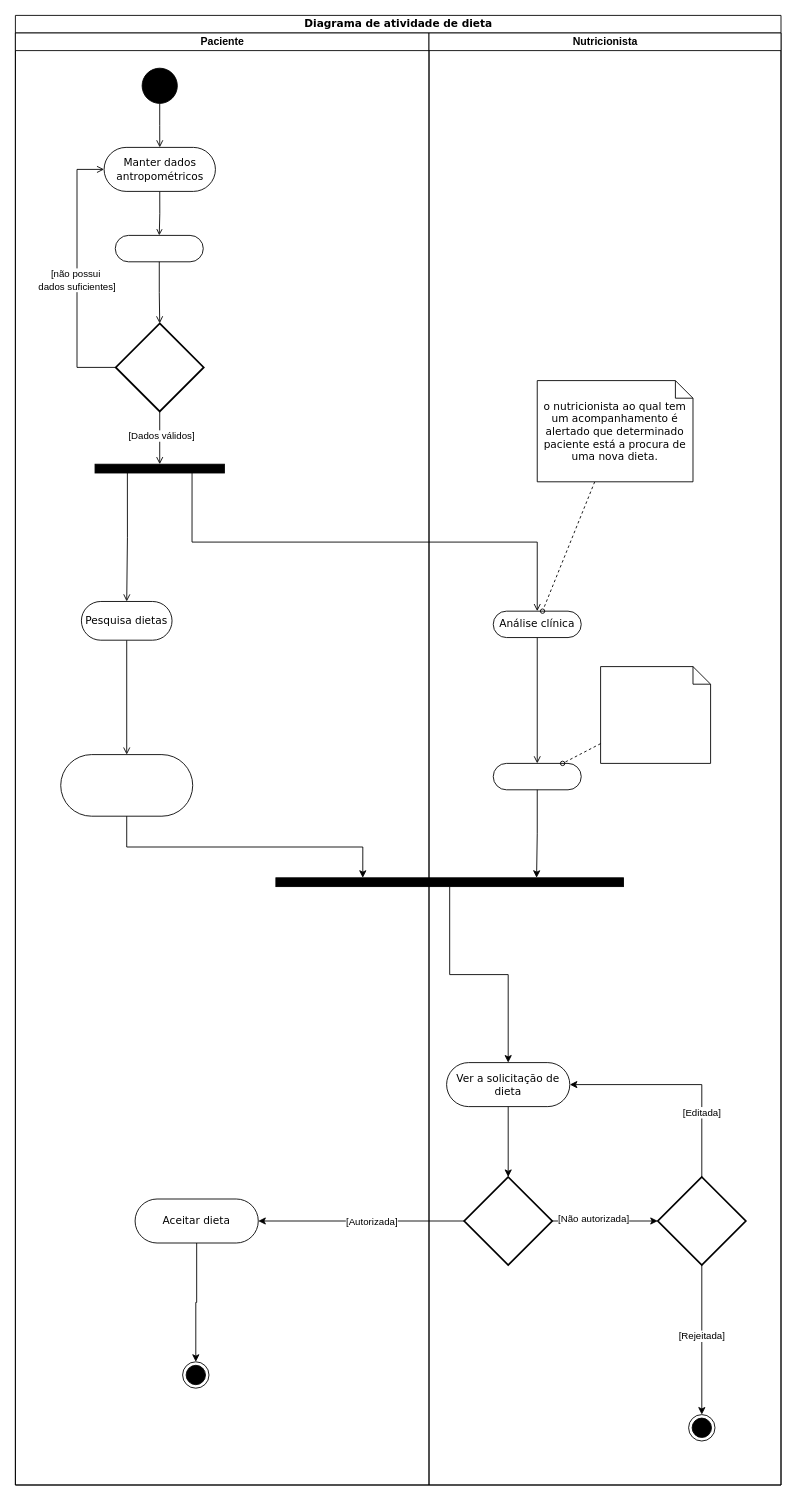
The diagram is 796 pixels wide and 1500 high, and some of its shapes have lost their labels. Here are the shapes that lost their labels. From the top down, the centre of each, then its label:
pixel 158 248: Solicitar dieta
pixel 655 714: Somente se já estiver estiver com uma dieta relacionada em uso.
pixel 126 785: Escolher dieta compatível ou personificada pelo sistema
pixel 536 776: Broquear a pesquisa
